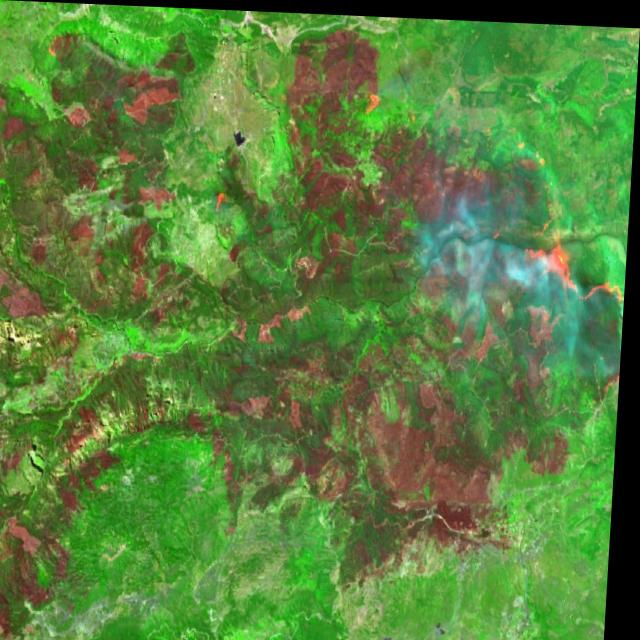fire: (507, 227, 630, 335), (338, 78, 397, 144), (206, 182, 235, 225)
